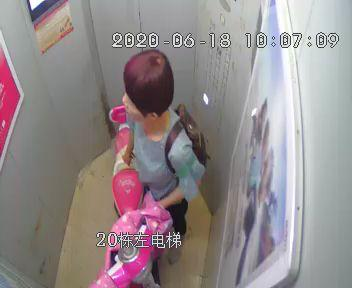Electric-bicycle: (105, 104, 157, 286)
